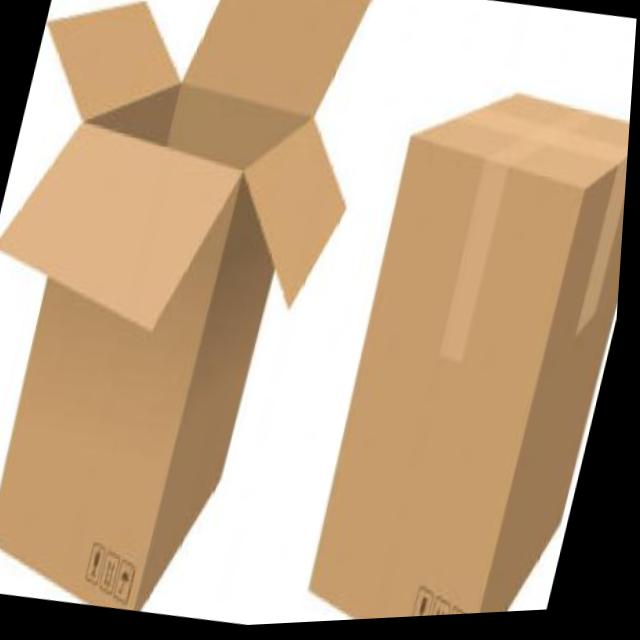box: (0, 0, 399, 639), (280, 58, 636, 627)
